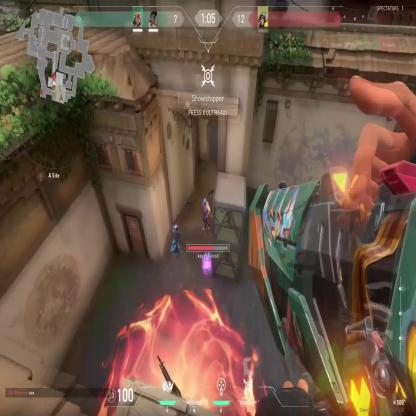enemy: (199, 196, 211, 235)
enemy_head: (204, 198, 206, 204)
